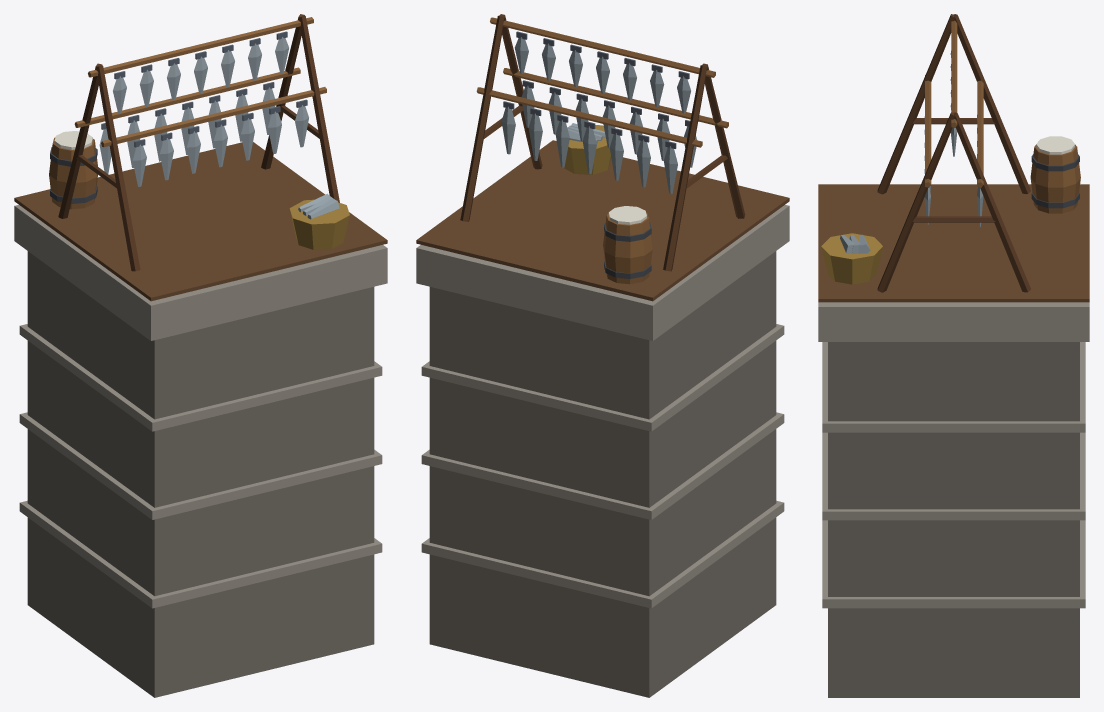
File: decor_fish_rack.glb
The picture shows the model from 3 angles, left to right: view 1: azimuth 30°, elevation 25°; view 2: azimuth 150°, elevation 25°; view 3: azimuth 270°, elevation 25°; orthographic projection.
Parts seen in each view (by area): view 1: decor_fish_rack; view 2: decor_fish_rack; view 3: decor_fish_rack.
Boxes of the visible parts, x1,y1,x2,y2 form: decor_fish_rack: (14, 14, 387, 697); decor_fish_rack: (416, 14, 789, 697); decor_fish_rack: (818, 14, 1089, 697).
Size of the model in its own units: 2.8 by 6.61 by 2.8.
